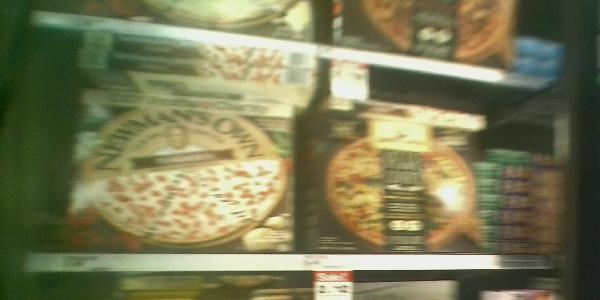pizza: (57, 109, 293, 254), (307, 120, 477, 253)
pizza1: (77, 46, 317, 101), (80, 29, 316, 68), (78, 89, 300, 123), (323, 98, 488, 130), (476, 223, 577, 241), (478, 240, 576, 258), (478, 209, 570, 228), (477, 195, 571, 213), (477, 163, 564, 182), (478, 179, 566, 197), (490, 149, 567, 166)
